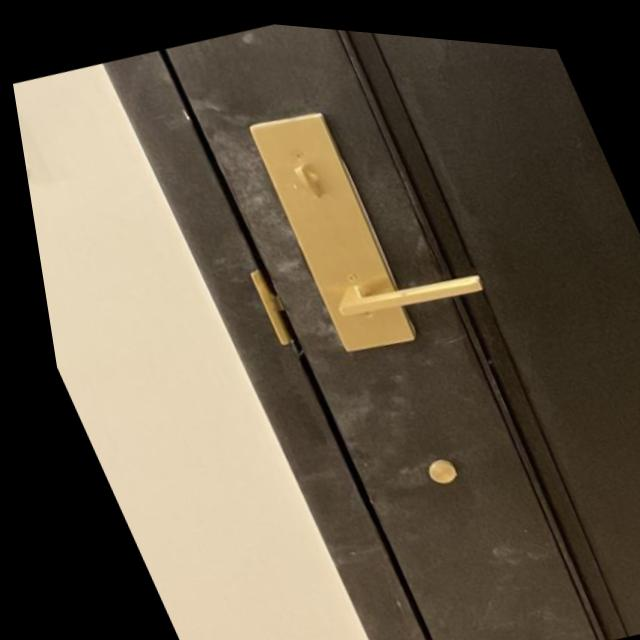door_handle: (283, 222, 512, 349)
